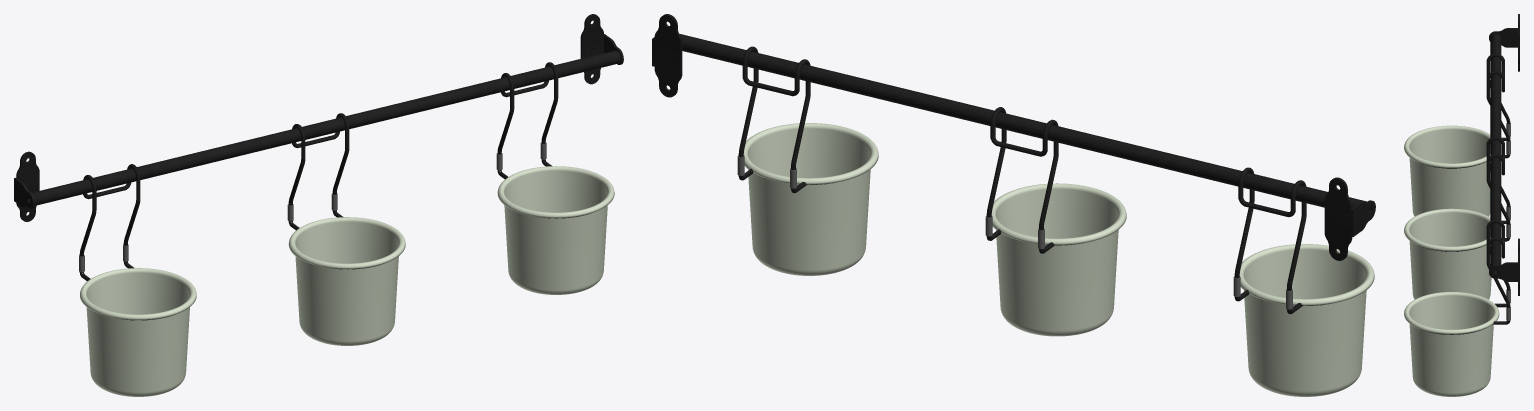
The model's file is 076 - stand divari jadid meshki goldan sabz.glb.
3 renders of one model, left to right at view 1: azimuth 30°, elevation 25°; view 2: azimuth 150°, elevation 25°; view 3: azimuth 270°, elevation 25°, orthographic. The views are drawn at different scales.
Parts seen in each view (by area): view 1: Group#30 [71428] (×3), Group#160 [71415], [57334] (×3), [3394], [2179]; view 2: Group#30 [71428] (×3), Group#160 [71415], [57334] (×3), [3394], [2179], Group#159 [3930]; view 3: Group#30 [71428] (×3), Group#160 [71415], [57334] (×3), Group#159 [3930] (×2).
Boxes of the visible parts, bbox=[...] form: Group#30 [71428] (×3): bbox=[80, 166, 614, 396]; Group#160 [71415]: bbox=[32, 50, 620, 205]; [57334] (×3): bbox=[79, 62, 588, 320]; [3394]: bbox=[580, 14, 603, 84]; [2179]: bbox=[16, 151, 39, 221]; Group#30 [71428] (×3): bbox=[743, 123, 1374, 396]; Group#160 [71415]: bbox=[679, 33, 1366, 207]; [57334] (×3): bbox=[738, 46, 1330, 313]; [3394]: bbox=[654, 14, 682, 97]; [2179]: bbox=[1324, 177, 1352, 260]; Group#159 [3930]: bbox=[1350, 200, 1375, 236]; Group#30 [71428] (×3): bbox=[1404, 125, 1499, 396]; Group#160 [71415]: bbox=[1490, 33, 1501, 273]; [57334] (×3): bbox=[1418, 53, 1510, 334]; Group#159 [3930] (×2): bbox=[1489, 28, 1519, 281].
Size of the model in its own units: 0.806 by 0.2792 by 0.168.
Materials: 5 (3 with a texture image).
